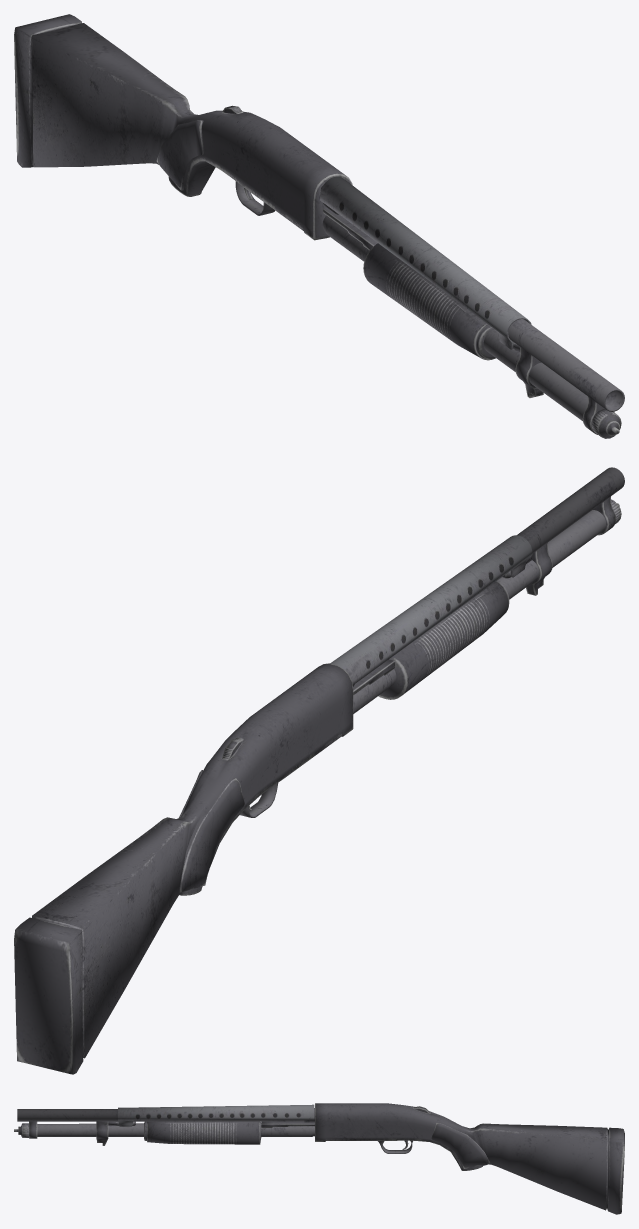
Rendered from Shotgun_M500.fbx.
3 views of the same model, one above another, from view 1: azimuth 30°, elevation 25°; view 2: azimuth 150°, elevation 25°; view 3: azimuth 270°, elevation 25° (orthographic). The views are drawn at different scales.
Visible parts, largest first — view 1: GunMesh; view 2: GunMesh; view 3: GunMesh.
Part boxes in pixels (box(x1,y1,x2,y2)): GunMesh: box(14, 14, 624, 438); GunMesh: box(14, 467, 624, 1074); GunMesh: box(14, 1103, 624, 1214).
Bounding box in the file's own units: 0.0534 × 0.1819 × 0.98.
Materials: 1 (1 with a texture image).
